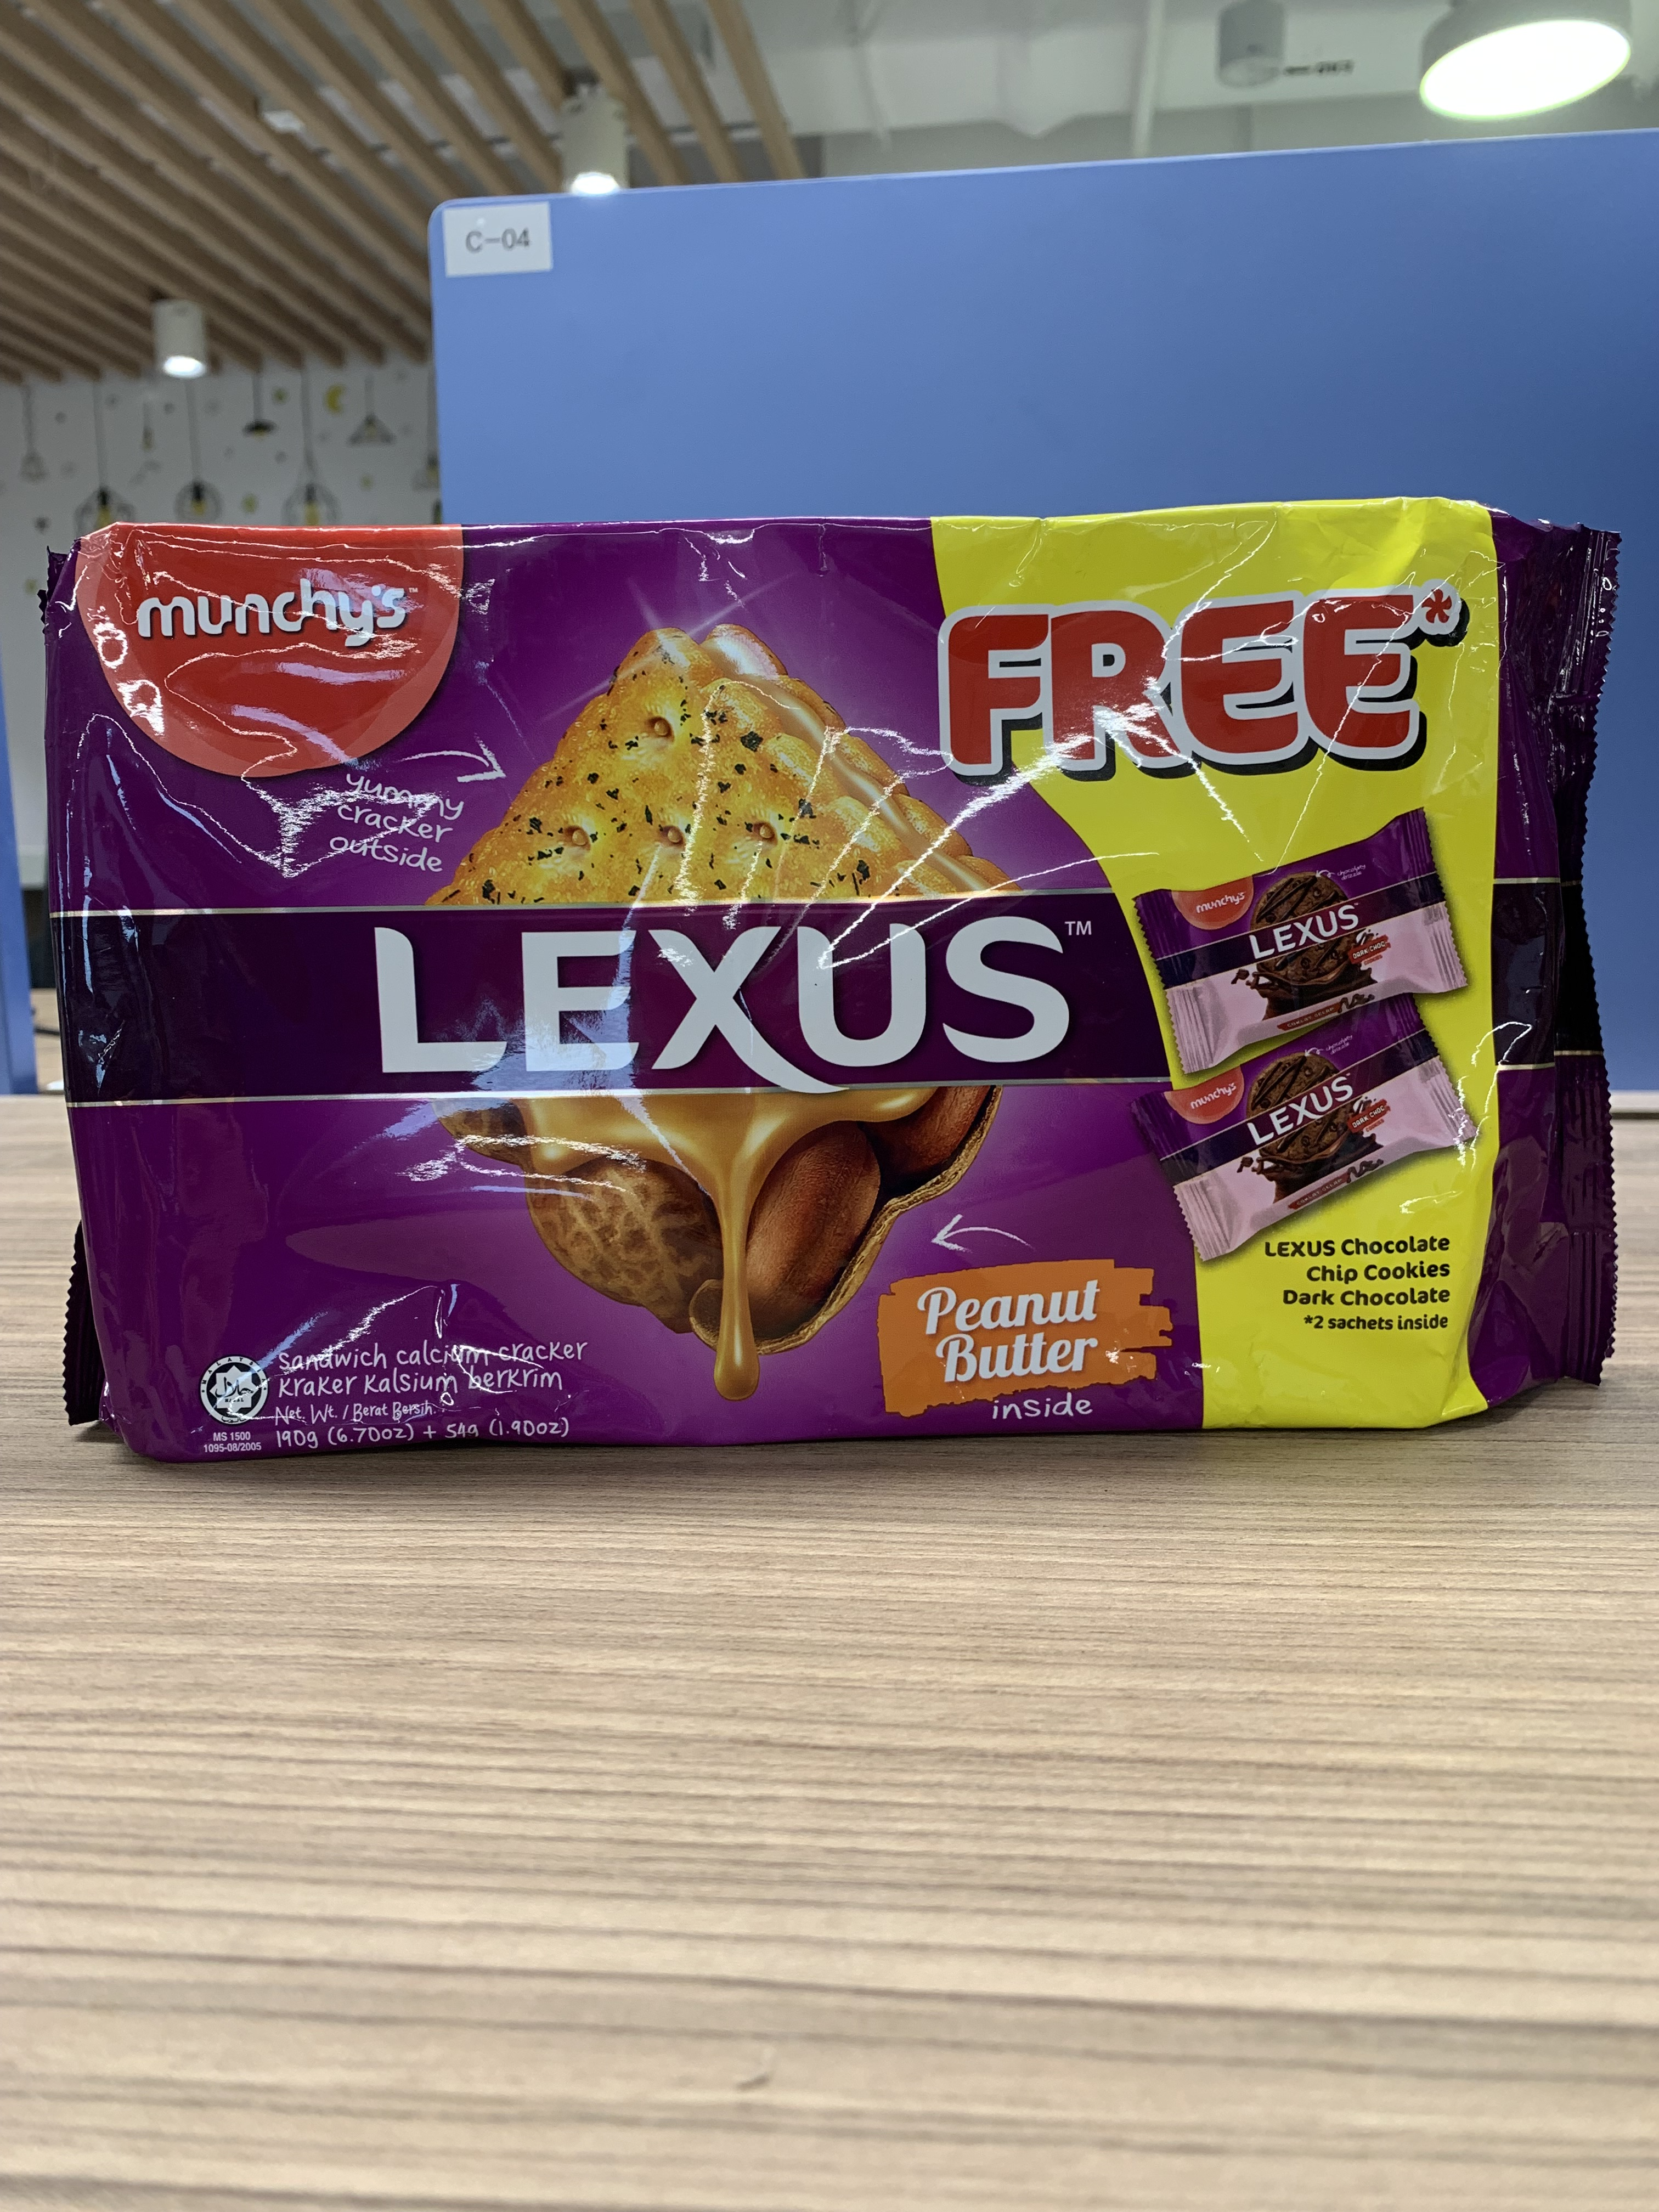cookies_200g-299g: (80, 543, 1551, 1439)
